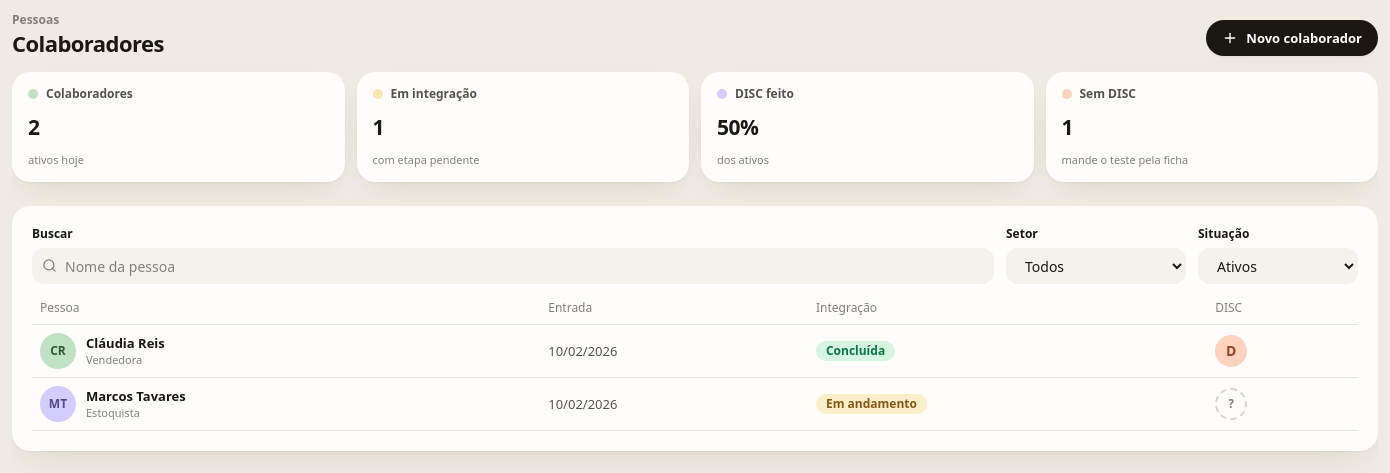
Test: busca pelo nome sem acento
This screenshot has width=1390, height=473.
Type "claudia" into the search field labelled "Buscar" at (513, 266), box [32,248,994,284]
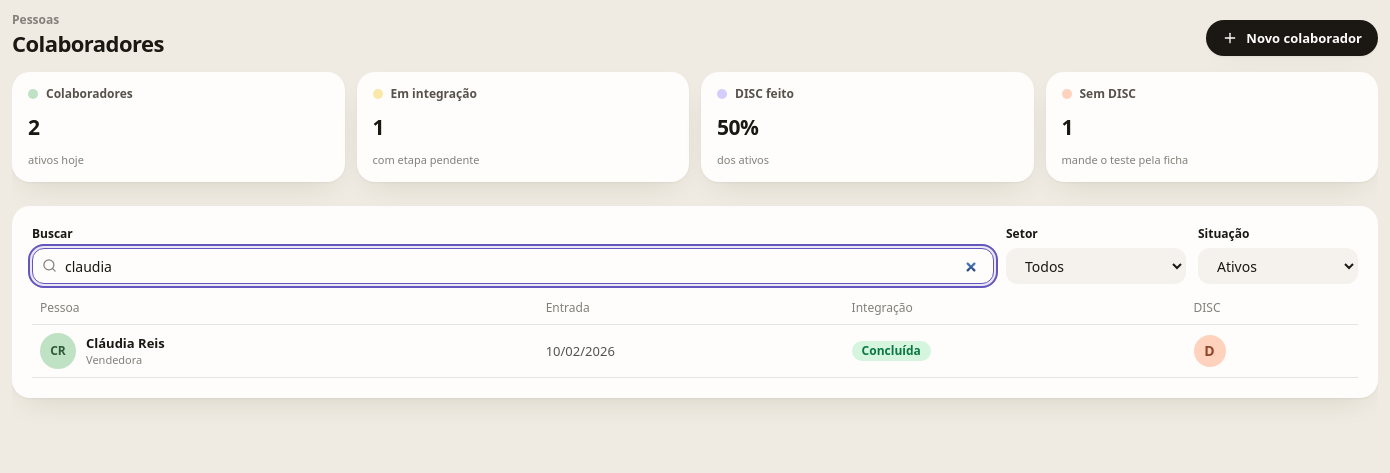
Expected: the link "Cláudia Reis" is shown, [86,335,165,352]
Expected: the link "Marcos Tavares" is gone
